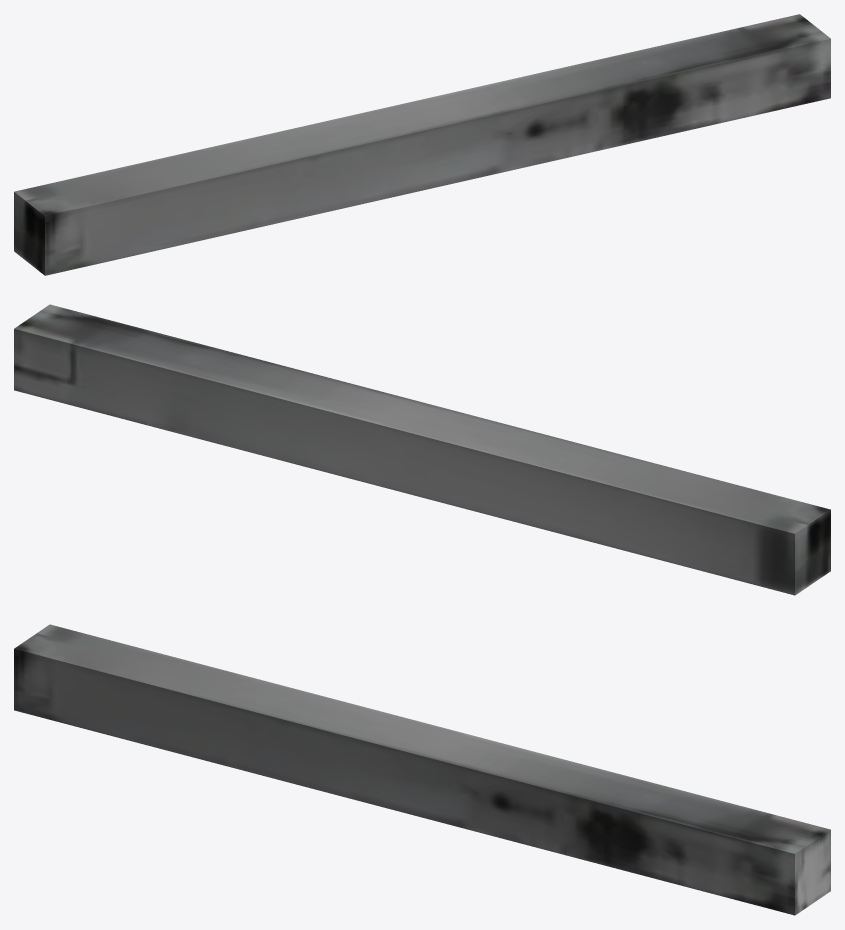
Rendered from frame__seat_side_rail_0.glb.
3 views of the same model, one above another, from view 1: azimuth 30°, elevation 25°; view 2: azimuth 150°, elevation 25°; view 3: azimuth 330°, elevation 25° (orthographic). The views are drawn at different scales.
Parts seen in each view (by area): view 1: world; view 2: world; view 3: world.
Boxes of the visible parts, <box> form: world: <box>14,14,830,275</box>; world: <box>14,304,830,595</box>; world: <box>14,624,830,915</box>.
Bounding box in the file's own units: 0.4611 × 0.034 × 0.049.
Materials: 1 (1 with a texture image).
